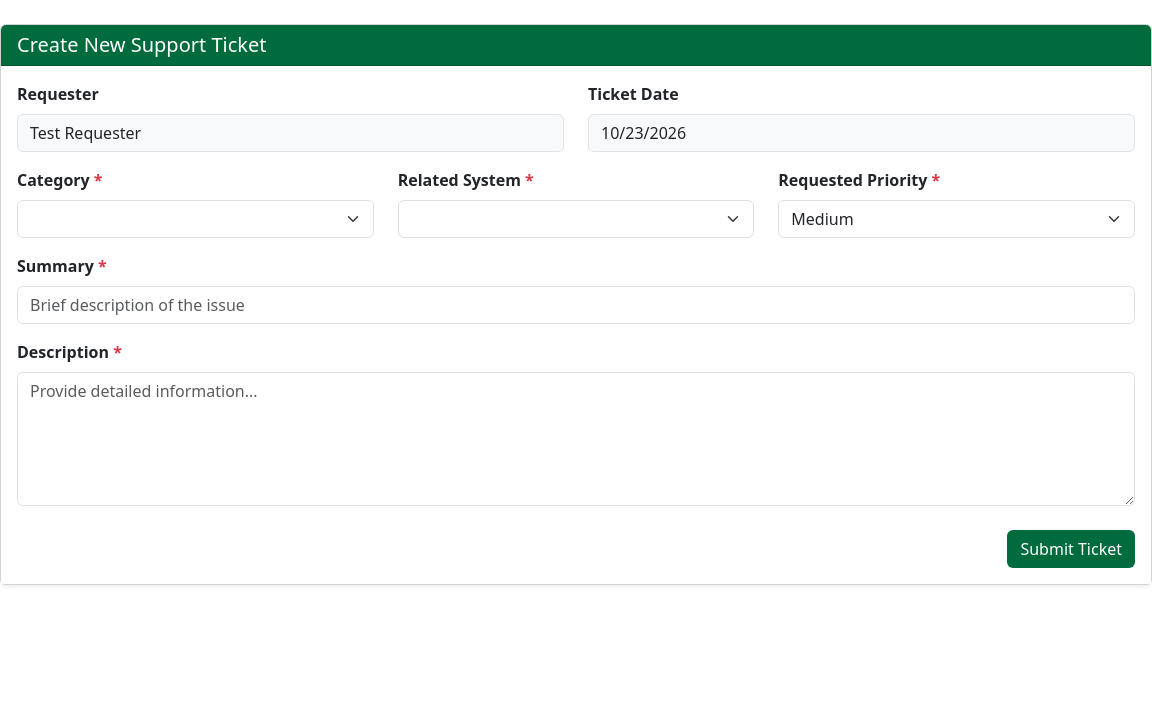
Test: CreateTicket Component › shows validation errors when submitting empty required fields
The width and height of the screenshot is (1152, 720).
Click the button "Submit Ticket". click: click(1071, 549)
box: [1007,530,1135,568]
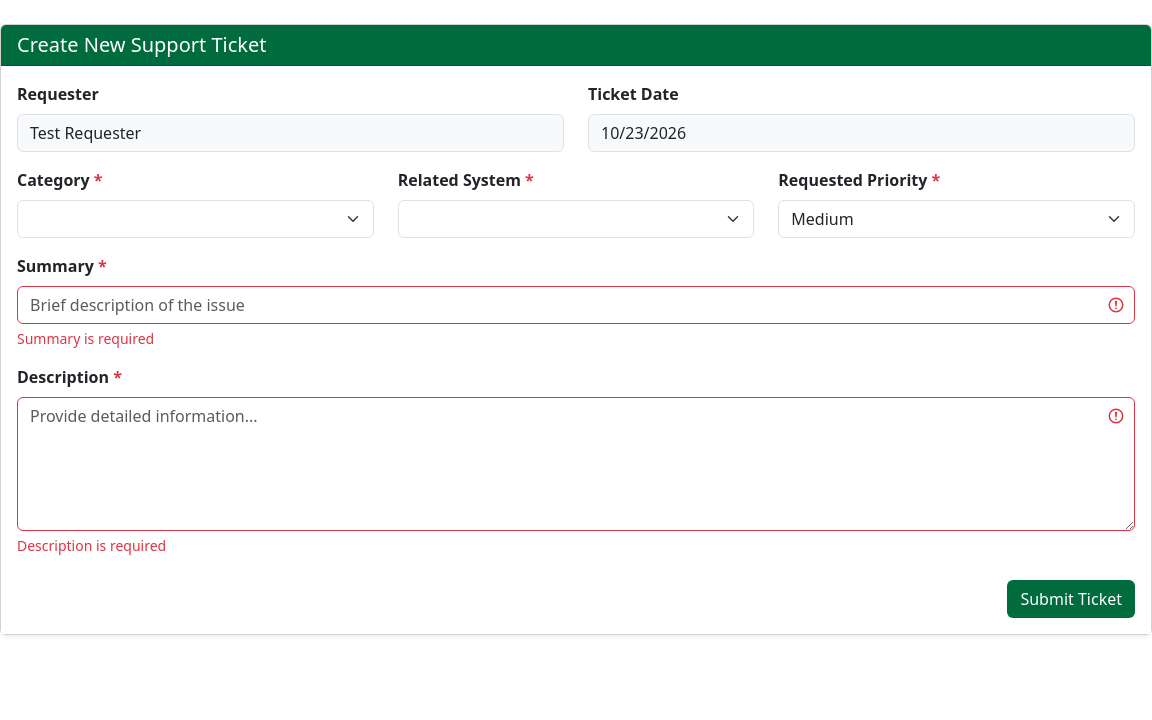
Expected: the text "Summary is required" is shown, [17,329,154,348]
Expected: the text "Description is required" is shown, [17,536,166,555]
